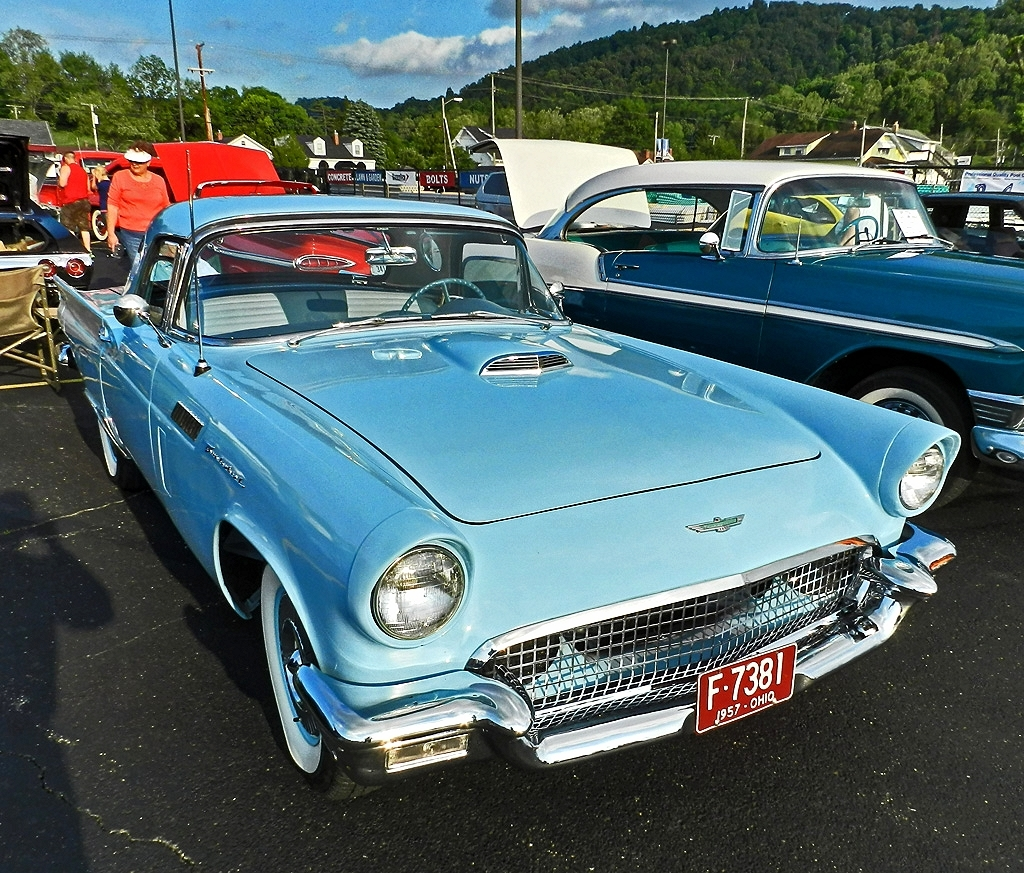Car: (56, 178, 963, 799), (535, 164, 1022, 502), (26, 136, 387, 286), (0, 159, 138, 338), (12, 140, 144, 208), (922, 182, 1022, 254)
